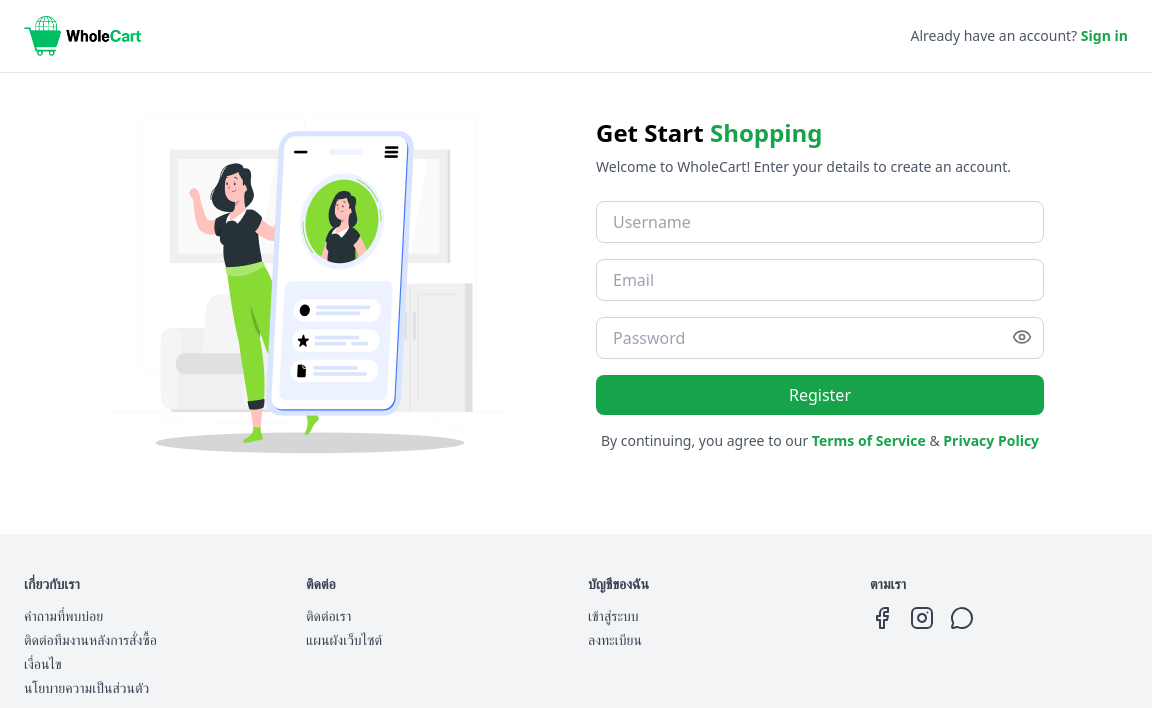
it: SignUpPage › shows error message if registration fails
Type "John" into the field with placeholder "Username" at (820, 222), box [596,200,1044,242]
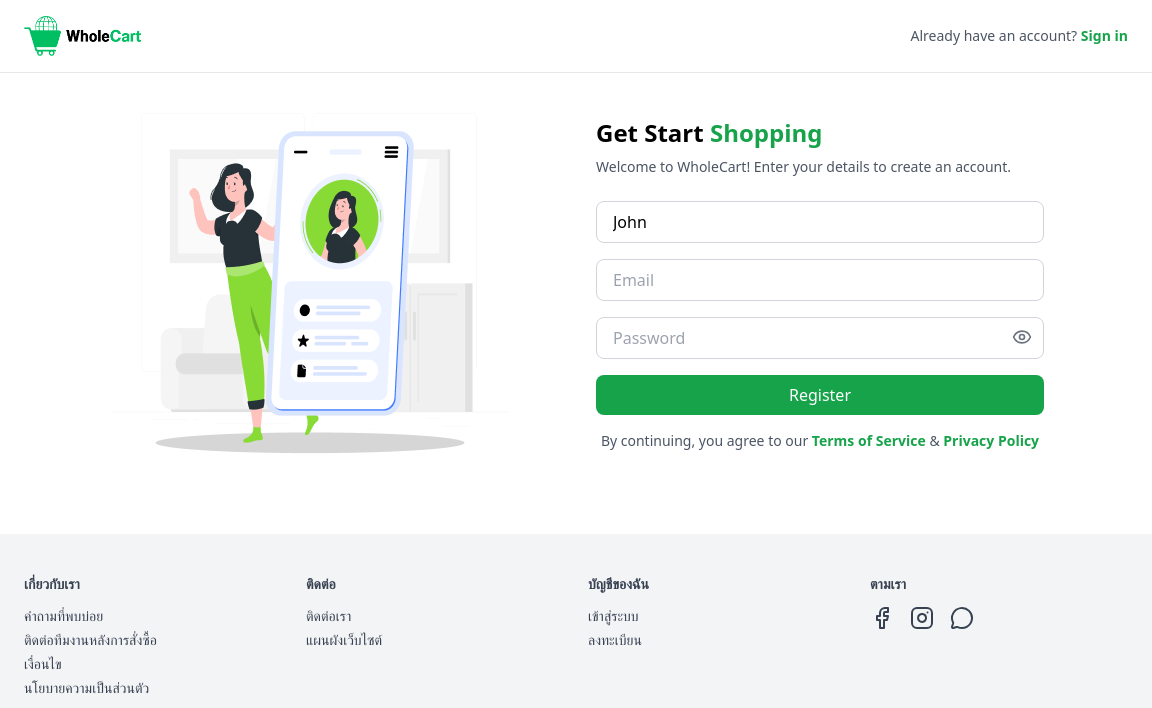
Type "john@example.com" into the field with placeholder "Email" at (820, 280), box [596,258,1044,300]
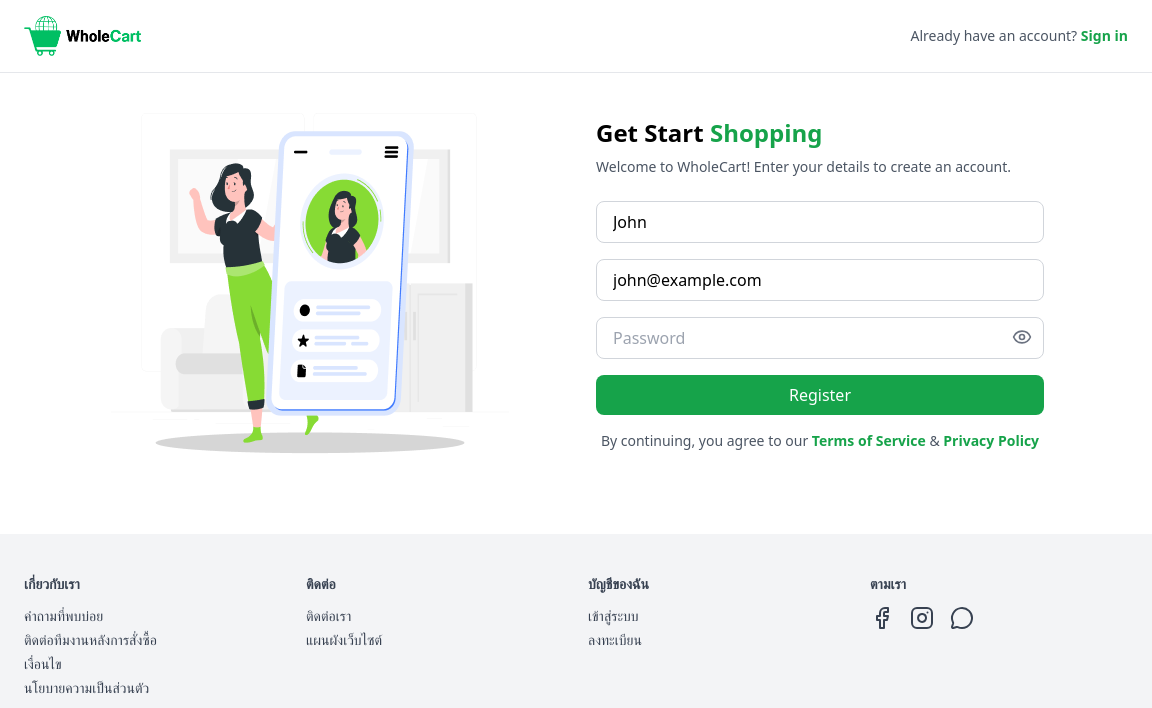
Type "password123" into the password field with placeholder "Password" at (820, 338), box [596,316,1044,358]
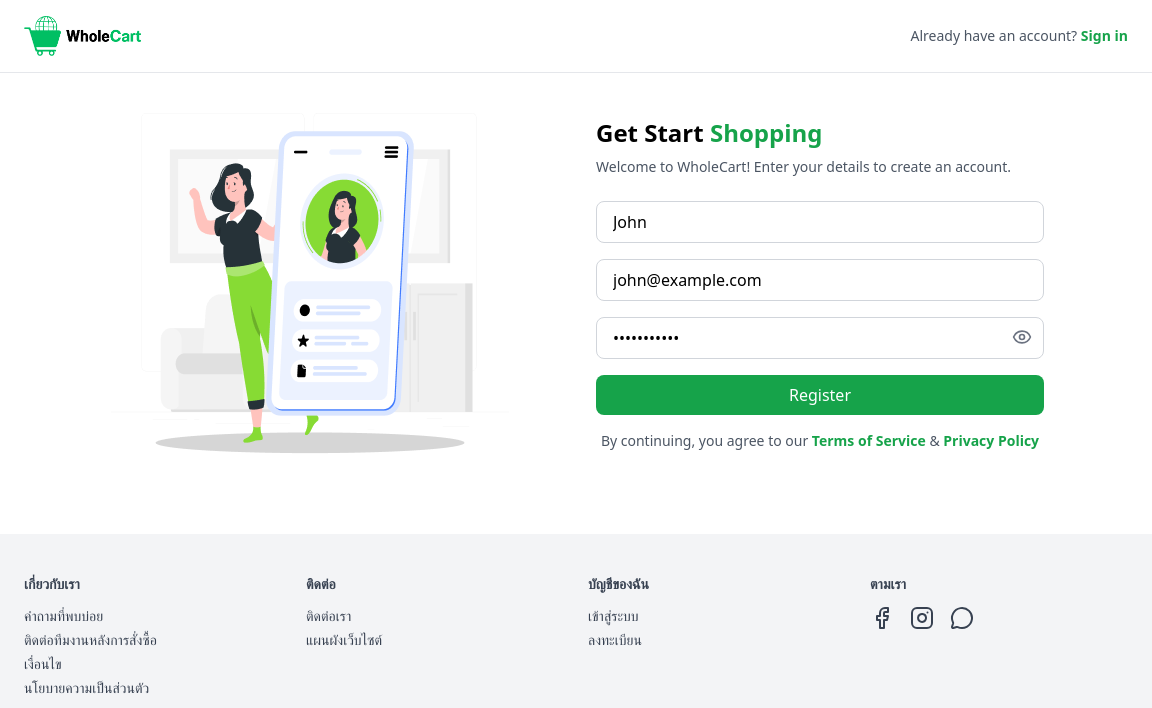
Click the button "Register" at (820, 394), box [596,374,1044,414]
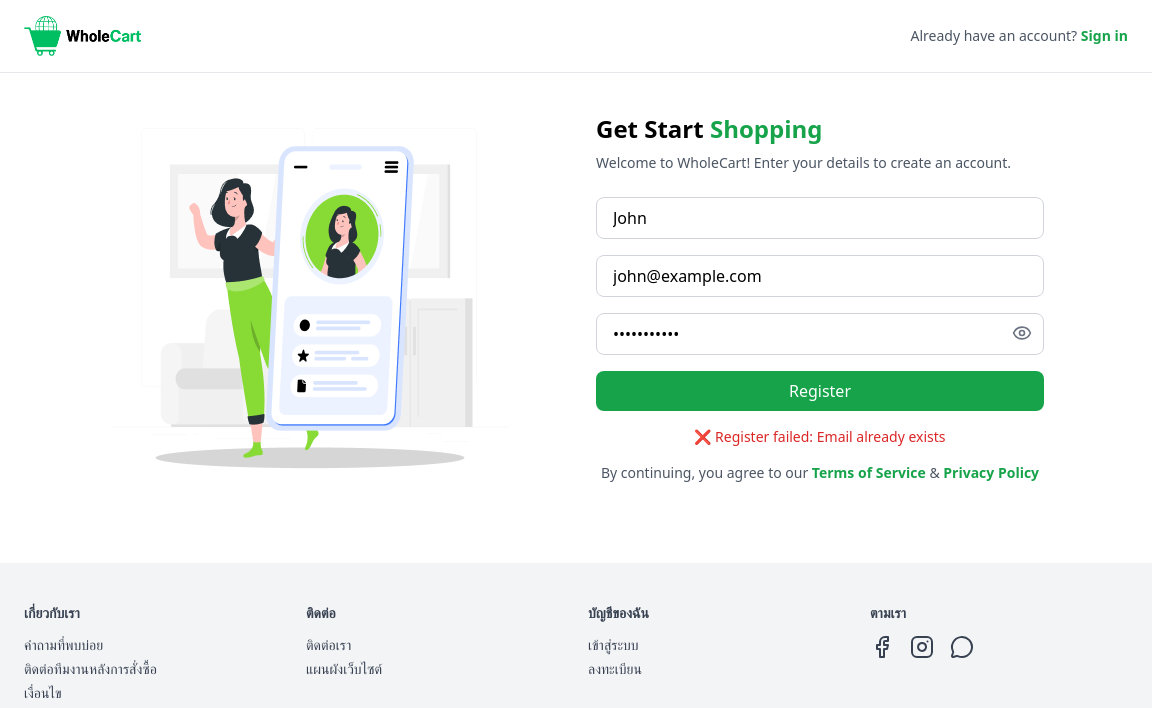
Expected: the text "❌ Register failed: Email already exists" is shown, [694,427,946,446]
